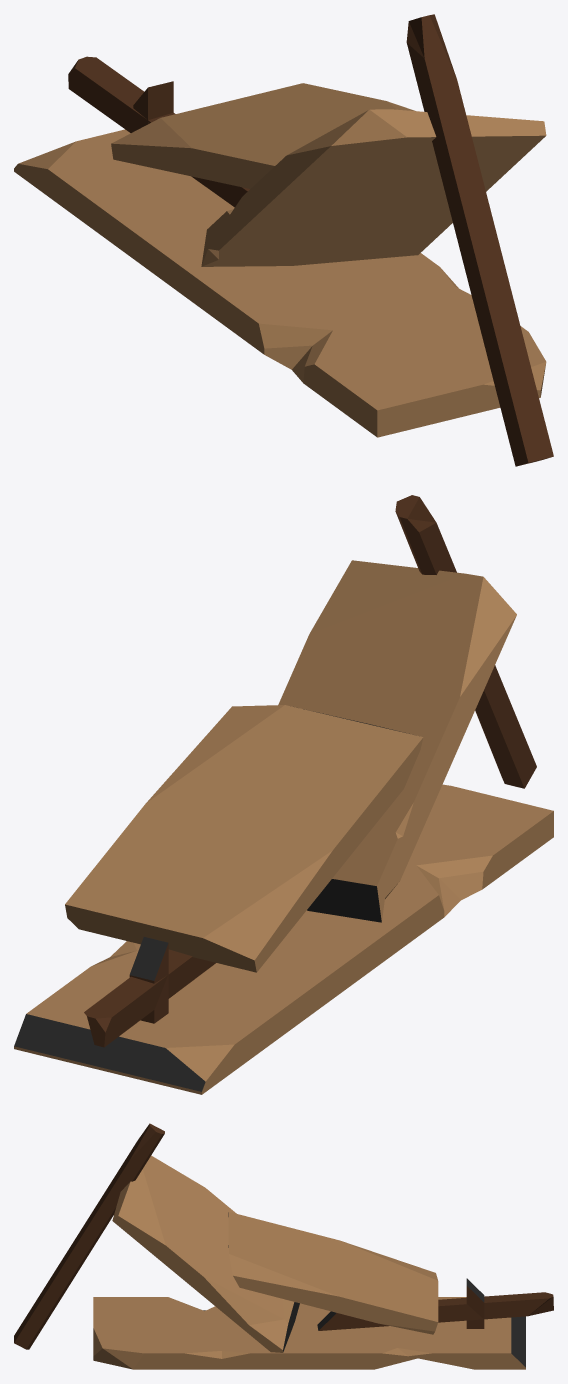
The model's file is WoodHolderBroken.fbx.
The picture shows the model from 3 angles, top to bottom: view 1: azimuth 30°, elevation 25°; view 2: azimuth 150°, elevation 25°; view 3: azimuth 270°, elevation 25°; orthographic projection. The views are drawn at different scales.
Parts seen in each view (by area): view 1: WoodHolderBroken; view 2: WoodHolderBroken; view 3: WoodHolderBroken.
Part boxes in pixels (<box>): WoodHolderBroken: <box>14,14,553,466</box>; WoodHolderBroken: <box>14,495,553,1094</box>; WoodHolderBroken: <box>14,1123,553,1369</box>.
Bounding box in the file's own units: 69.72 × 113 × 250.
